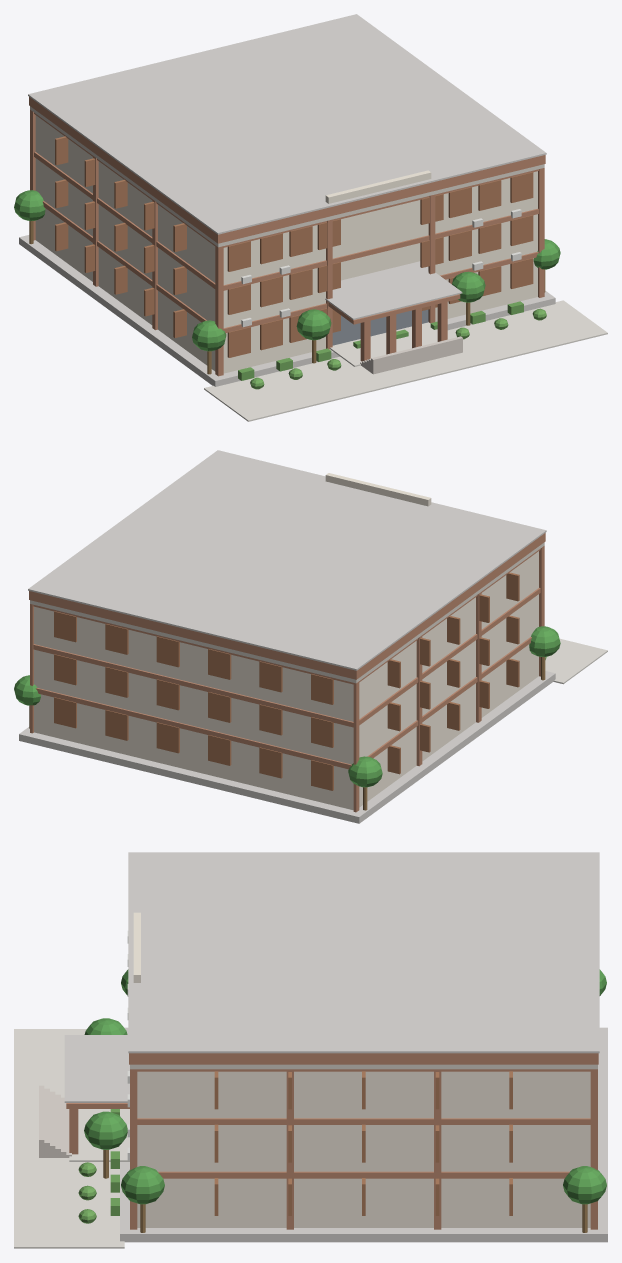
File: First Year Block.glb
3 renders of one model, top to bottom at view 1: azimuth 30°, elevation 25°; view 2: azimuth 150°, elevation 25°; view 3: azimuth 270°, elevation 25°, orthographic. The views are drawn at different scales.
Parts seen in each view (by area): view 1: Parapet_Cap, Wall_Left, Pavement_Front, Plinth, Wall_Front_Above_Entrance, Wall_Front_Left, Wall_Front_Right, Canopy_Top, Parapet_Front, Roof_Slab, Parapet_Left, Band_Front_2 (+35 smaller); view 2: Parapet_Cap, Wall_Back, Wall_Left, Plinth, Parapet_Back, Roof_Slab, Band_Back_2, Band_Back_1, Parapet_Left, Pavement_Front, Band_Left_2, Band_Left_1 (+27 smaller); view 3: Parapet_Cap, Wall_Right, Pavement_Front, Plinth, Parapet_Right, Canopy_Top, Band_Right_1, Band_Right_2, Roof_Slab, Entrance_Floor, Band_Right_3, Tree_5_Canopy (+9 smaller).
Part boxes in pixels (x1,y1,x2,y2): Parapet_Cap: (28, 14, 546, 234); Wall_Left: (35, 116, 224, 373); Pavement_Front: (204, 300, 607, 421); Plinth: (19, 235, 555, 386); Wall_Front_Above_Entrance: (325, 170, 431, 280); Wall_Front_Left: (223, 225, 325, 373); Wall_Front_Right: (428, 172, 535, 321); Canopy_Top: (325, 271, 462, 319); Parapet_Front: (216, 155, 545, 243); Roof_Slab: (30, 106, 544, 247); Parapet_Left: (31, 98, 216, 241); Band_Front_2: (223, 208, 538, 290); Parapet_Cap: (28, 450, 546, 670); Wall_Back: (34, 606, 353, 810); Wall_Left: (350, 551, 538, 809); Plinth: (19, 671, 555, 823); Parapet_Back: (29, 591, 358, 679); Roof_Slab: (30, 542, 544, 683); Band_Back_2: (33, 644, 353, 727); Band_Back_1: (36, 688, 351, 769); Parapet_Left: (358, 534, 543, 678); Pavement_Front: (545, 638, 607, 684); Band_Left_2: (359, 588, 540, 725); Band_Left_1: (367, 637, 531, 758); Parapet_Cap: (128, 852, 599, 1053); Wall_Right: (137, 1071, 590, 1227); Pavement_Front: (14, 1029, 124, 1248); Plinth: (120, 1027, 607, 1242); Parapet_Right: (133, 1053, 594, 1064); Canopy_Top: (64, 1035, 129, 1102); Band_Right_1: (158, 1171, 569, 1178); Band_Right_2: (137, 1118, 590, 1124); Roof_Slab: (130, 1064, 597, 1069); Entrance_Floor: (69, 1109, 129, 1161); Band_Right_3: (137, 1069, 590, 1071); Tree_5_Canopy: (84, 1111, 127, 1149).
Size of the model in its own units: 28.28 by 11.74 by 32.25.
